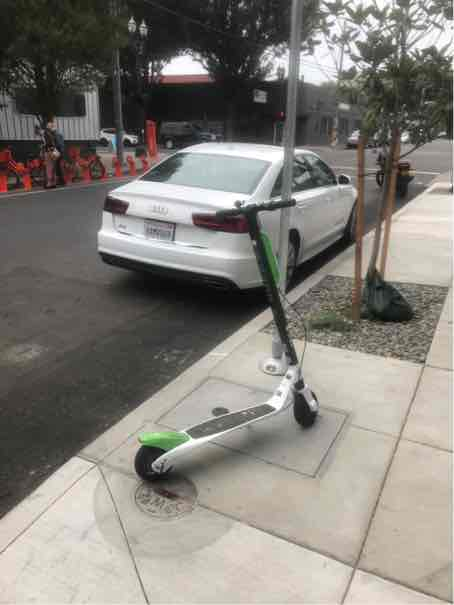scooter: (121, 191, 329, 500)
